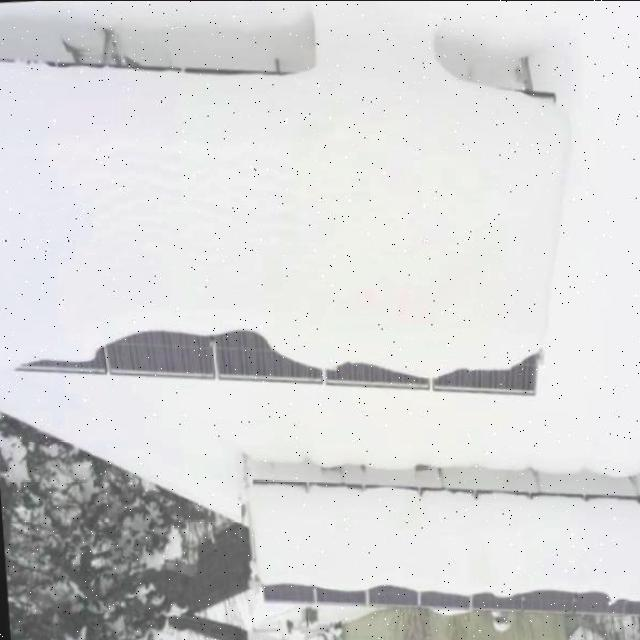Anomaly Solar Panel: (0, 60, 558, 392), (252, 479, 640, 611)
Snow: (0, 60, 571, 375), (251, 478, 640, 603)
